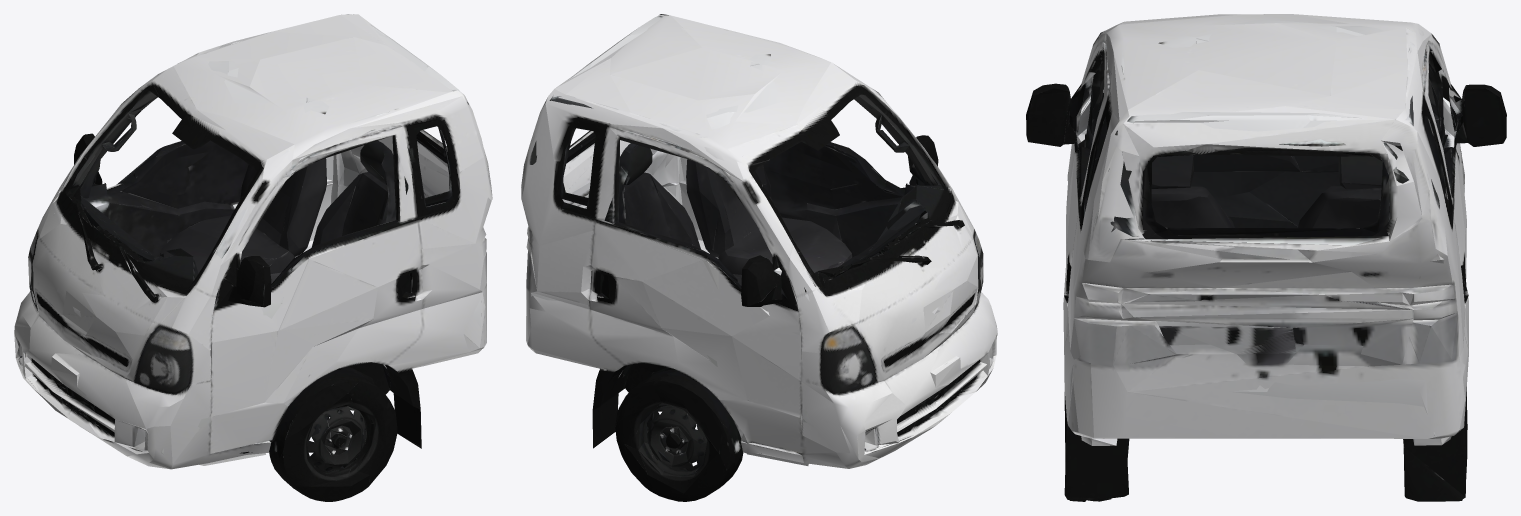
Rendered from cargo-1ton-cab-v2-clean.glb.
3 views of the same model, side by side, from view 1: azimuth 30°, elevation 25°; view 2: azimuth 150°, elevation 25°; view 3: azimuth 270°, elevation 25° (orthographic). The views are drawn at different scales.
Parts seen in each view (by area): view 1: output_unwrapped; view 2: output_unwrapped; view 3: output_unwrapped.
Boxes of the visible parts, x1,y1,x2,y2 form: output_unwrapped: (14,14,492,501); output_unwrapped: (521,14,997,501); output_unwrapped: (1026,14,1506,501).
Bounding box in the file's own units: 1.66 × 1.58 × 1.47.
Materials: 1 (1 with a texture image).
